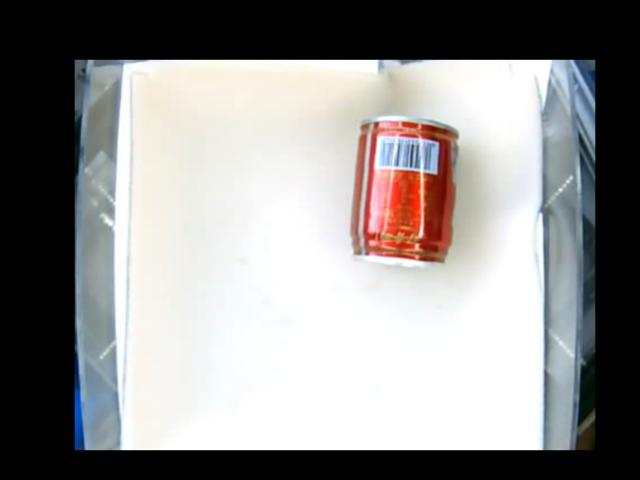Bottle: (350, 117, 459, 268)
